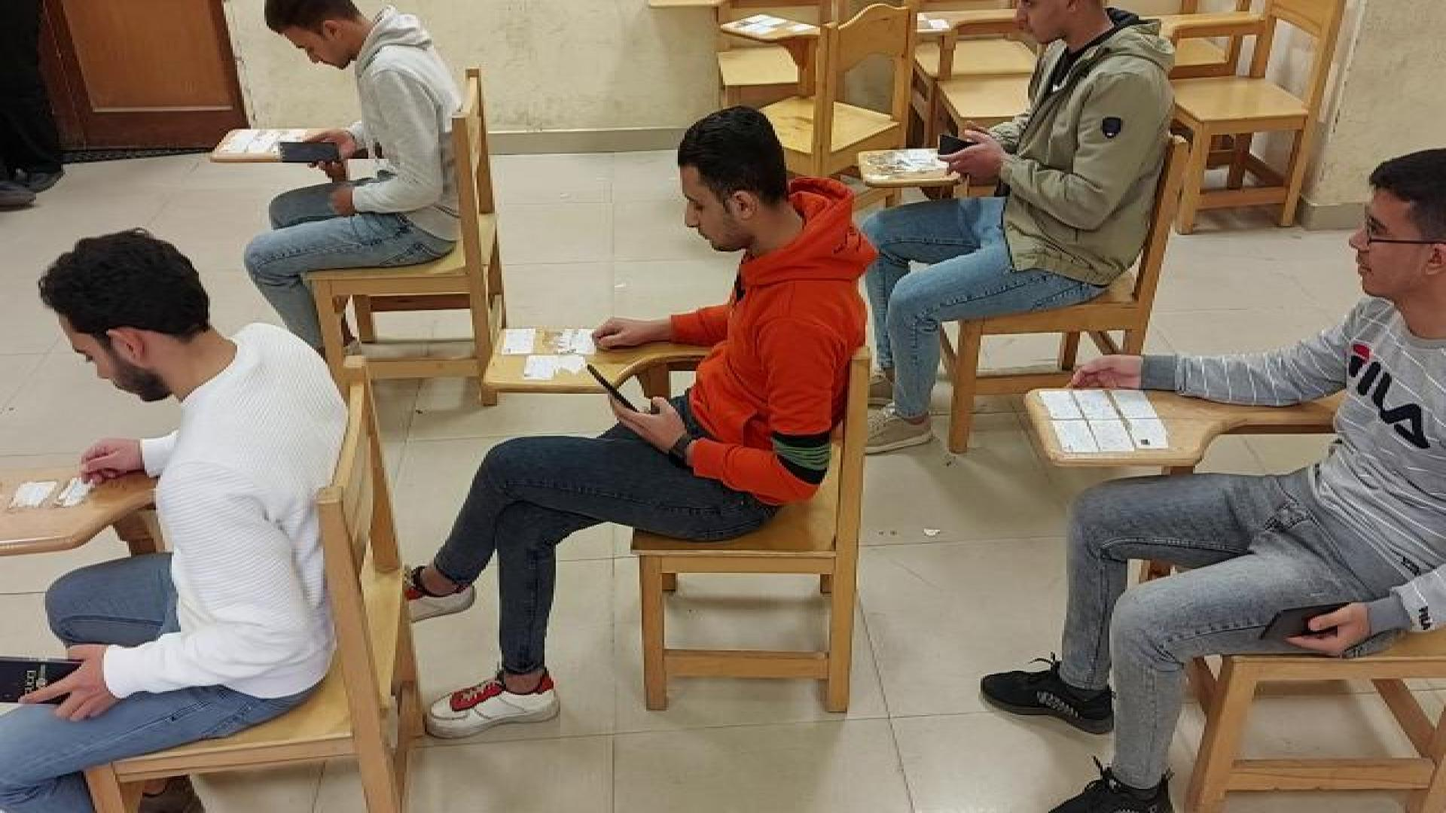phone: (0, 650, 99, 708), (1255, 603, 1357, 651), (582, 358, 647, 418), (275, 134, 347, 167), (934, 132, 991, 163)
